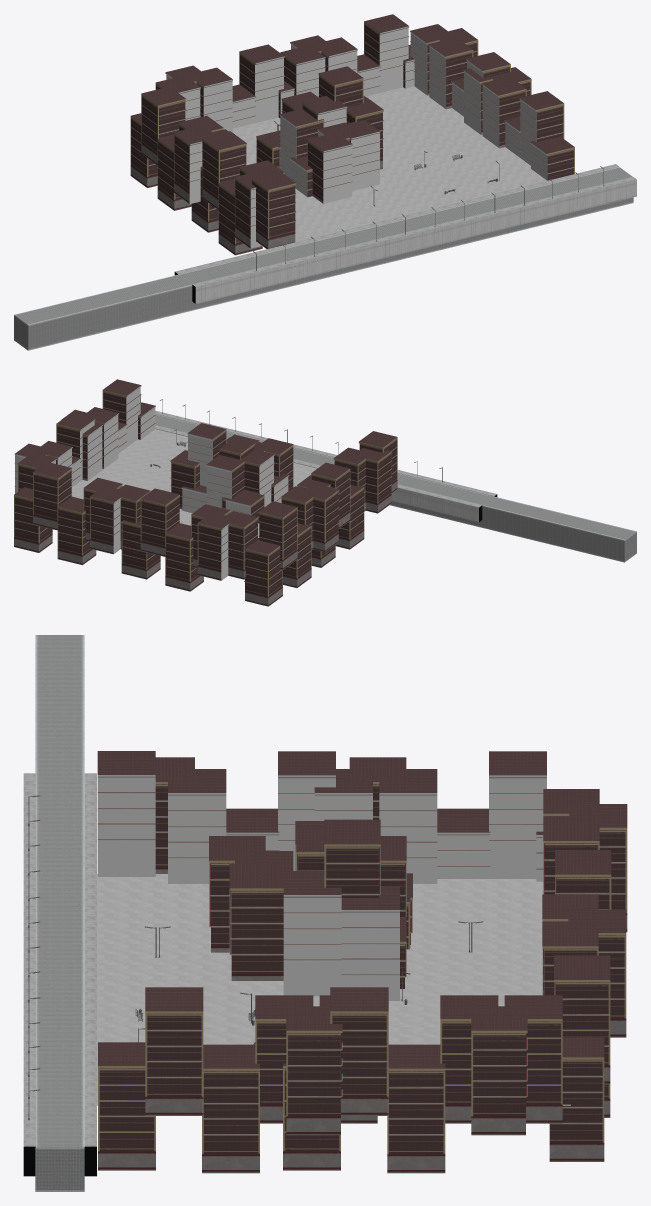
File: level_test.fbx
The picture shows the model from 3 angles, top to bottom: view 1: azimuth 30°, elevation 25°; view 2: azimuth 150°, elevation 25°; view 3: azimuth 270°, elevation 25°; orthographic projection. The views are drawn at different scales.
Visible parts, largest first — view 1: Plane003, sidewalk004, road003, road001, Box042, Box030, Box008, Box001, Box032, Box038, Box020, Box023 (+28 smaller); view 2: road003, Plane003, Box034, Box001, Box008, Box032, Box009, Box002, Box007, sidewalk003, Box013, Box037 (+33 smaller); view 3: Plane003, road001, road003, Box020, Box015, Box042, Box021, Box056, Box019, Box032, Box022, Box025 (+32 smaller).
Part boxes in pixels (x1,y1,x2,y2): Plane003: (232,86,546,241); sidewalk004: (192,177,636,303); road003: (14,246,310,350); road001: (337,167,633,271); Box042: (251,171,296,248); Box030: (307,135,352,203); Box008: (364,14,409,92); Box001: (239,44,284,123); Box032: (141,86,186,165); Box038: (202,131,246,209); Box020: (519,91,564,165); Box023: (481,76,526,148); road003: (390,473,636,562); Plane003: (71,429,316,537); Box034: (244,538,282,606); Box001: (140,488,179,556); Box008: (33,462,72,530); Box032: (258,501,297,569); Box009: (57,496,96,565); Box002: (165,523,203,591); Box007: (197,515,235,580); sidewalk003: (155,425,482,522); Box013: (90,487,125,554); Box037: (300,483,339,551); Plane003: (97,874,570,1105); road001: (35,908,84,1191); road003: (35,635,84,873); Box020: (145,987,203,1115); Box015: (387,1044,445,1173); Box042: (97,751,155,876); Box021: (202,1044,259,1173); Box056: (283,871,341,996); Box019: (471,1006,527,1135); Box032: (489,751,546,878); Box022: (98,1042,155,1170); Box025: (286,1006,342,1135).
Bounding box in the file's own units: 6993 × 1291 × 3480.
